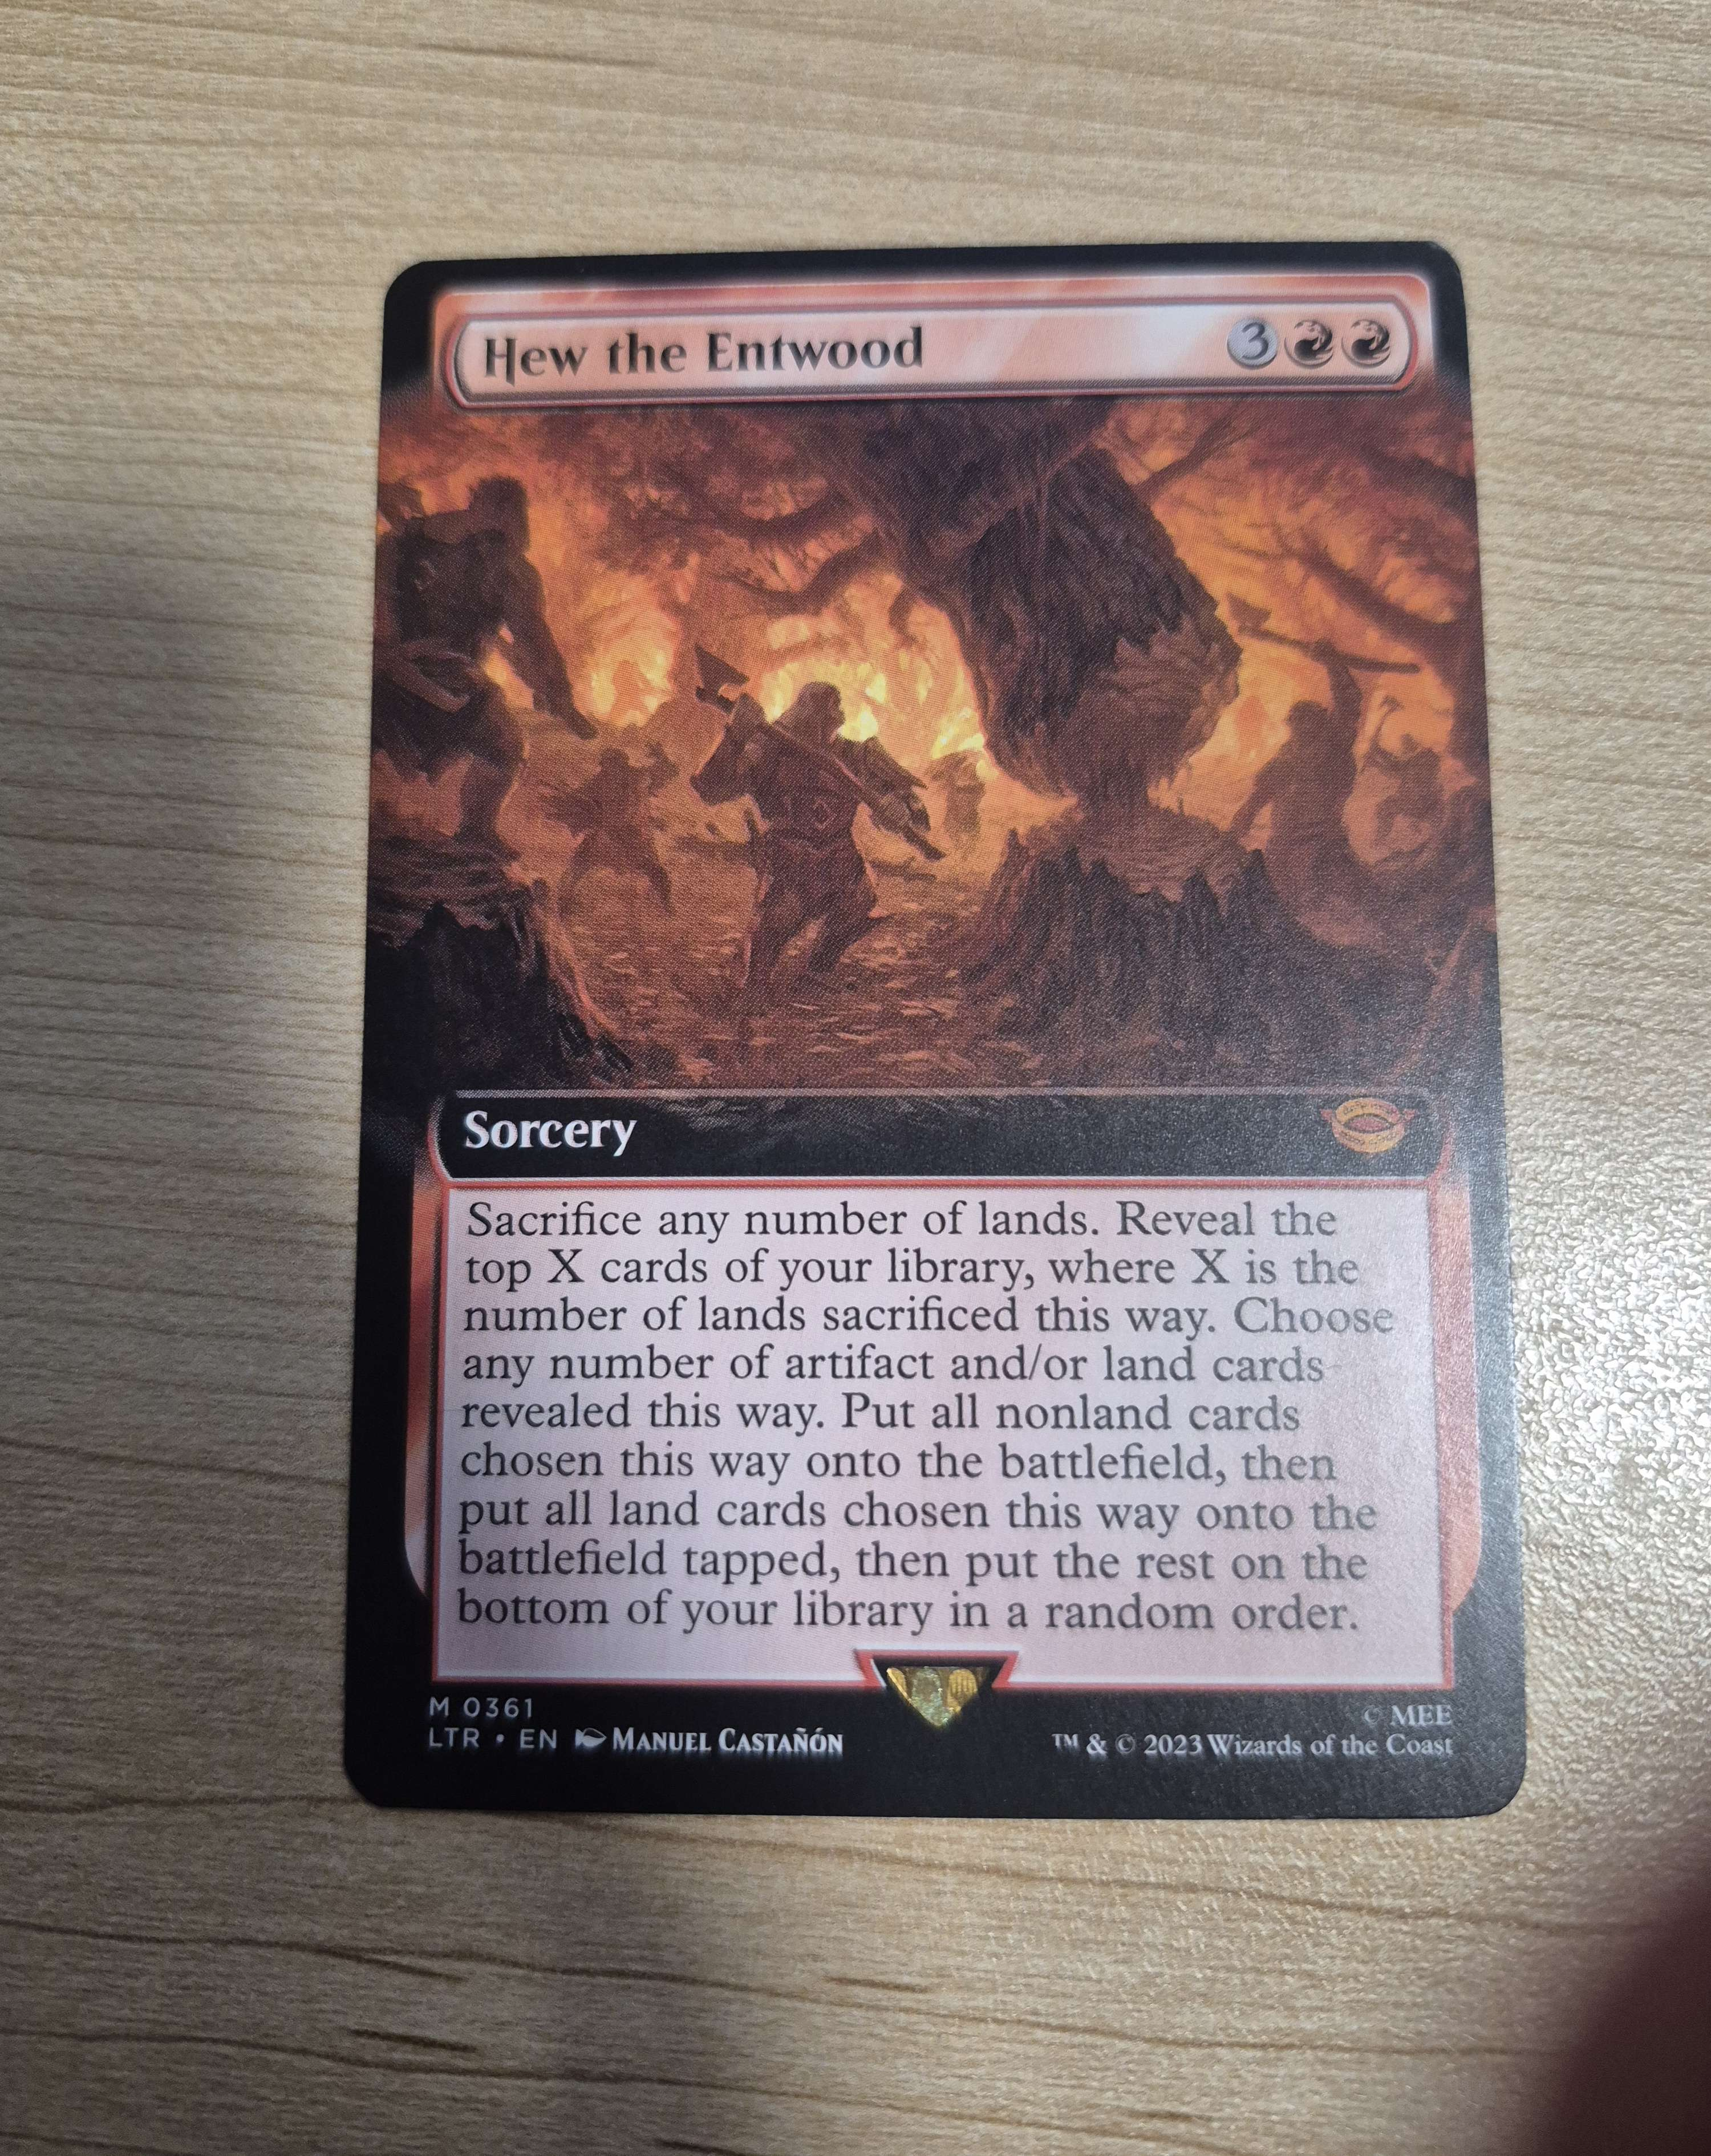mtg_card: (324, 233, 1599, 1867)
